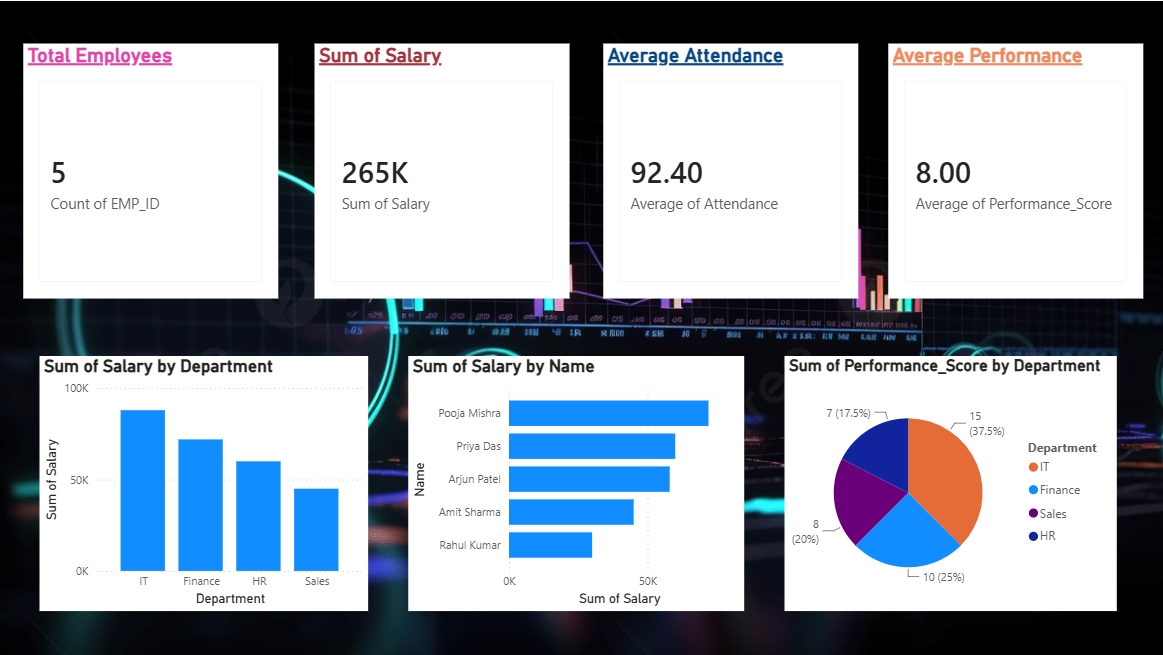

Layout of this report page (visuals, bound fields, positions):
{"tool":"powerbi","page":{"name":"Page 1","canvas":[1280,720],"ordinal":0},"visuals":[{"type":"cardVisual","title":"Total Employees","fields":{"Data":["CountNonNull(Employee_Data.EMP_ID)"]},"box":[28.8,46.7,279.9,279.9],"z":0},{"type":"cardVisual","title":"Sum of Salary","fields":{"Data":["Sum(Employee_Data.Salary)"]},"box":[348.5,46.7,279.9,279.9],"z":1},{"type":"cardVisual","title":"Average Attendance","fields":{"Data":["Avg(Employee_Data.Attendance)"]},"box":[665.5,46.7,279.9,279.9],"z":2},{"type":"cardVisual","title":"Average Performance","fields":{"Data":["Avg(Employee_Data.Performance_Score)"]},"box":[978.4,46.7,279.9,279.9],"z":3},{"type":"clusteredColumnChart","fields":{"Category":["Employee_Data.Department"],"Y":["Sum(Employee_Data.Salary)"]},"box":[46.7,389.7,360.9,279.9],"z":4},{"type":"clusteredBarChart","fields":{"Category":["Employee_Data.Name"],"Y":["Sum(Employee_Data.Salary)"]},"box":[451.5,389.7,369.1,279.9],"z":5},{"type":"pieChart","fields":{"Category":["Employee_Data.Department"],"Y":["Sum(Employee_Data.Performance_Score)"]},"box":[864.5,389.7,365,279.9],"z":6}]}

Visuals, with their boxes in screenshot pixels (x1, y1, x2, y2), scaled from the page's 1280x720 canvas onto the 1163x655 screenshot:
"Total Employees" cardVisual: <box>26,42,280,297</box>
"Sum of Salary" cardVisual: <box>317,42,571,297</box>
"Average Attendance" cardVisual: <box>605,42,859,297</box>
"Average Performance" cardVisual: <box>889,42,1143,297</box>
clusteredColumnChart - Employee_Data.Department x Sum(Employee_Data.Salary): <box>42,355,370,609</box>
clusteredBarChart - Employee_Data.Name x Sum(Employee_Data.Salary): <box>410,355,746,609</box>
pieChart - Employee_Data.Department x Sum(Employee_Data.Performance_Score): <box>785,355,1117,609</box>
